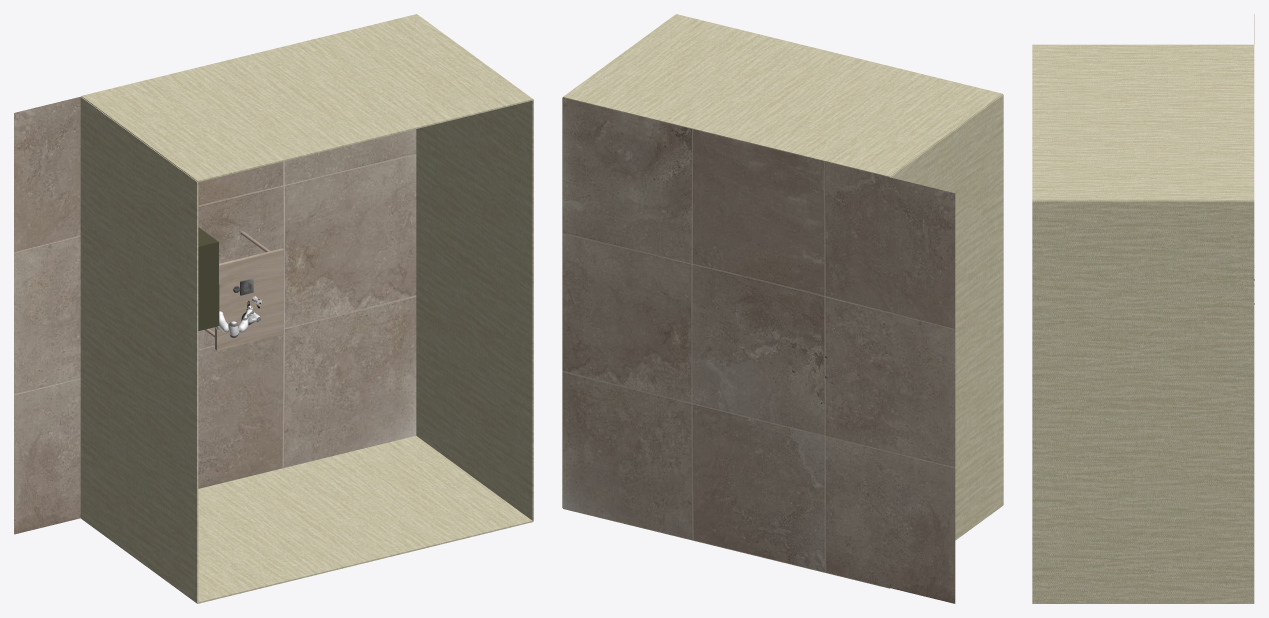
3 renders of one model, left to right at view 1: azimuth 30°, elevation 25°; view 2: azimuth 150°, elevation 25°; view 3: azimuth 270°, elevation 25°, orthographic. The views are drawn at different scales.
Visible parts, largest first — view 1: floor__g0, wall_rear_visual__g8, wall_front_visual__g9, wall_left_visual__g6, wall_right_visual__g7, table_visual__g11, geom_5__g5; view 2: floor__g0, wall_left_visual__g6, wall_rear_visual__g8; view 3: wall_front_visual__g9, wall_left_visual__g6.
Boxes of the visible parts, box(x1,y1,x2,y2) form: floor__g0: box(14, 97, 416, 534); wall_rear_visual__g8: box(80, 96, 198, 603); wall_front_visual__g9: box(416, 99, 533, 521); wall_left_visual__g6: box(81, 14, 533, 181); wall_right_visual__g7: box(197, 436, 533, 603); table_visual__g11: box(215, 248, 283, 350); geom_5__g5: box(198, 227, 219, 330); floor__g0: box(562, 97, 955, 603); wall_left_visual__g6: box(563, 14, 1002, 177); wall_rear_visual__g8: box(890, 94, 1003, 540); wall_front_visual__g9: box(1032, 201, 1254, 603); wall_left_visual__g6: box(1032, 44, 1254, 201).
Size of the model in its own units: 6.01 by 6.02 by 3.01.
Materials: 21 (10 with a texture image).
